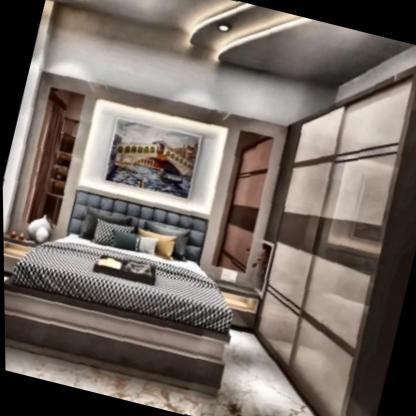Bed: (2, 171, 259, 397)
Closet: (217, 50, 416, 416)
Frame: (94, 106, 212, 208)
Gypsum Board: (46, 0, 416, 83)
